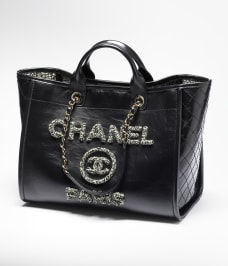channel: (8, 47, 220, 226), (31, 110, 162, 147), (77, 143, 121, 195)
